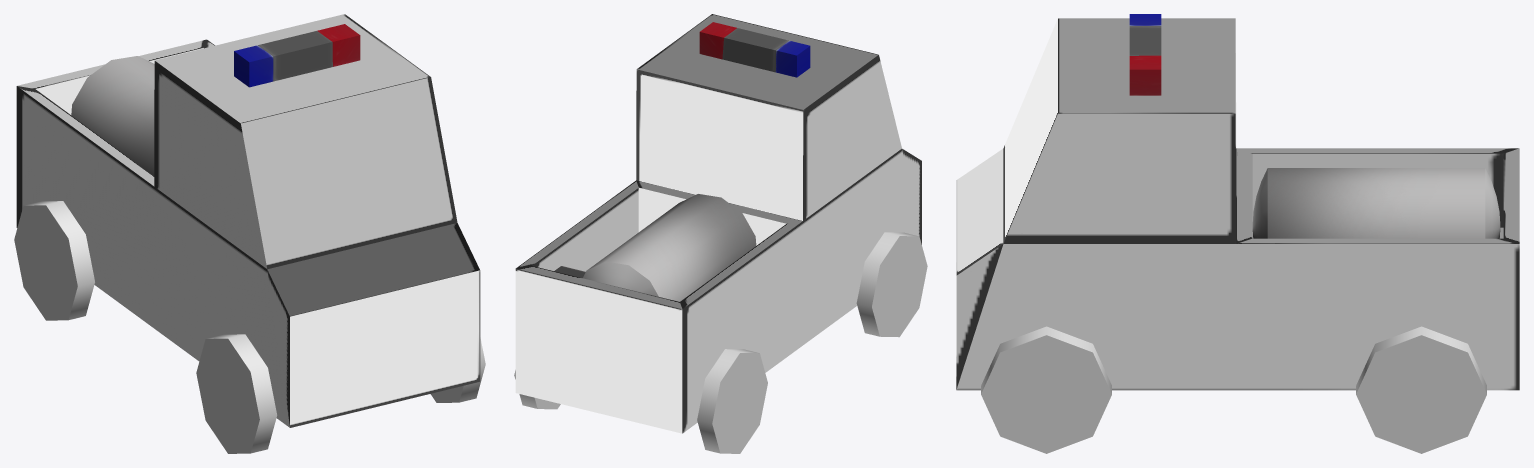
File: truckFBX.fbx
3 renders of one model, left to right at view 1: azimuth 30°, elevation 25°; view 2: azimuth 150°, elevation 25°; view 3: azimuth 270°, elevation 25°, orthographic. The views are drawn at different scales.
Parts seen in each view (by area): view 1: Body, Wheels, Tank; view 2: Body, Wheels, Tank; view 3: Body, Wheels, Tank.
Part boxes in pixels (<box>): Body: <box>16,14,480,427</box>; Wheels: <box>14,201,485,453</box>; Tank: <box>71,56,154,175</box>; Body: <box>515,14,921,433</box>; Wheels: <box>514,232,927,453</box>; Tank: <box>583,194,756,301</box>; Body: <box>956,14,1519,390</box>; Wheels: <box>981,326,1486,453</box>; Tank: <box>1252,168,1500,238</box>.
Size of the model in its own units: 2.86 by 4.2 by 6.
